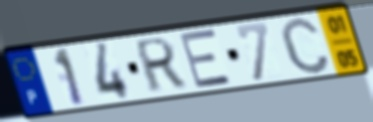1: (50, 45, 89, 107)
4: (94, 40, 129, 101)
7: (233, 19, 273, 83)
C: (277, 14, 333, 76)
E: (177, 27, 235, 91)
R: (134, 35, 188, 96)
